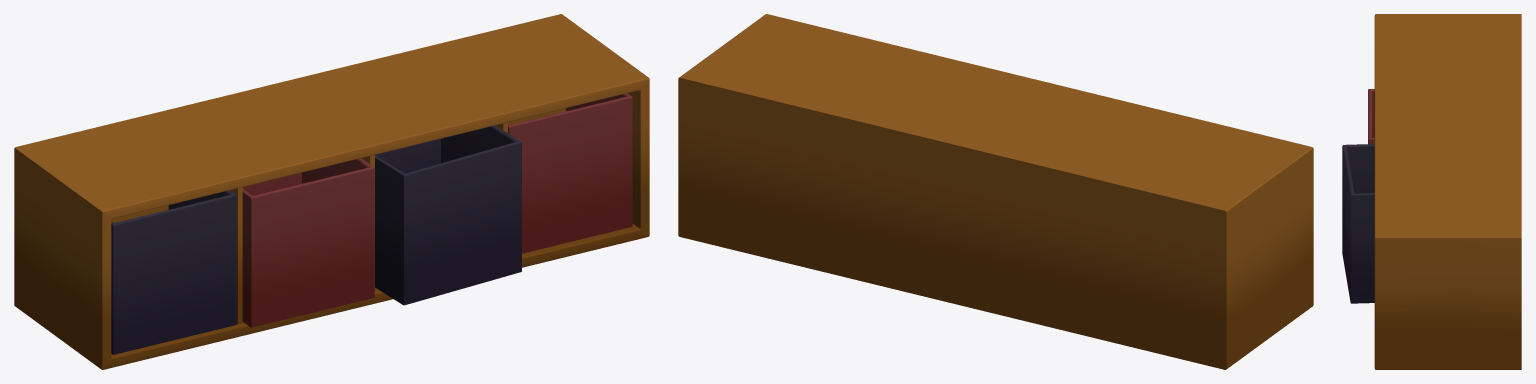
File: Grp_BoxFurnitur.fbx
3 views of the same model, side by side, from view 1: azimuth 30°, elevation 25°; view 2: azimuth 150°, elevation 25°; view 3: azimuth 270°, elevation 25° (orthographic). The views are drawn at different scales.
Visible parts, largest first — view 1: SM_BoxFurniture_01, SM_Box_03, SM_Box_02, SM_Box_01, SM_Box_04; view 2: SM_BoxFurniture_01; view 3: SM_BoxFurniture_01, SM_Box_03, SM_Box_02.
Part boxes in pixels (x1,y1,x2,y2): SM_BoxFurniture_01: (14,14,649,369); SM_Box_03: (375,125,521,305); SM_Box_02: (242,158,374,327); SM_Box_01: (111,190,236,354); SM_Box_04: (508,93,632,253); SM_BoxFurniture_01: (678,14,1313,369); SM_BoxFurniture_01: (1374,14,1521,369); SM_Box_03: (1342,144,1374,303); SM_Box_02: (1368,89,1374,143).
Size of the model in its own units: 271 by 75.07 by 91.53.
